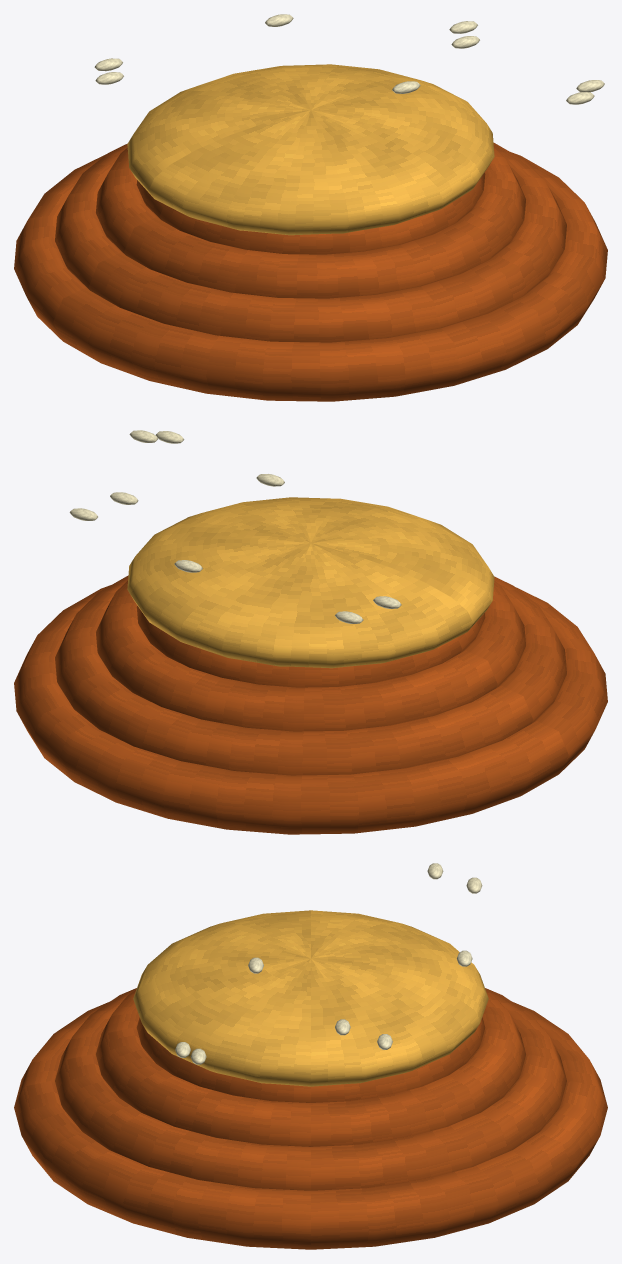
The model's file is bread_sweet_potato_montblanc.glb.
3 renders of one model, top to bottom at view 1: azimuth 30°, elevation 25°; view 2: azimuth 150°, elevation 25°; view 3: azimuth 270°, elevation 25°, orthographic.
Visible parts, largest first — view 1: フィリング.002, パイ生地の渦巻き.008, パイ生地の渦巻き.009, パイ生地の渦巻き.010, パイ生地の渦巻き.011; view 2: フィリング.002, パイ生地の渦巻き.008, パイ生地の渦巻き.009, パイ生地の渦巻き.010, パイ生地の渦巻き.011; view 3: フィリング.002, パイ生地の渦巻き.008, パイ生地の渦巻き.009, パイ生地の渦巻き.010, パイ生地の渦巻き.011.
Boxes of the visible parts, left/top/right/bottom form: フィリング.002: left=127, top=64, right=494, bottom=235; パイ生地の渦巻き.008: left=14, top=152, right=607, bottom=401; パイ生地の渦巻き.009: left=55, top=143, right=566, bottom=342; パイ生地の渦巻き.010: left=96, top=148, right=525, bottom=298; パイ生地の渦巻き.011: left=136, top=173, right=485, bottom=254; フィリング.002: left=127, top=497, right=494, bottom=668; パイ生地の渦巻き.008: left=14, top=585, right=607, bottom=834; パイ生地の渦巻き.009: left=55, top=575, right=566, bottom=775; パイ生地の渦巻き.010: left=96, top=580, right=525, bottom=731; パイ生地の渦巻き.011: left=136, top=606, right=485, bottom=687; フィリング.002: left=133, top=910, right=488, bottom=1086; パイ生地の渦巻き.008: left=14, top=1002, right=607, bottom=1249; パイ生地の渦巻き.009: left=55, top=988, right=566, bottom=1190; パイ生地の渦巻き.010: left=96, top=990, right=525, bottom=1146; パイ生地の渦巻き.011: left=136, top=1017, right=485, bottom=1102.
Size of the model in its own units: 0.668 by 0.2564 by 0.668.
Materials: 3 (3 with a texture image).
